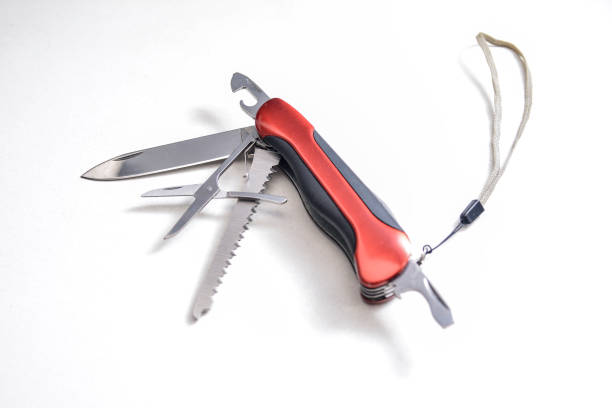knife: (191, 147, 282, 321), (77, 120, 266, 184), (392, 255, 454, 333), (227, 68, 269, 118)
